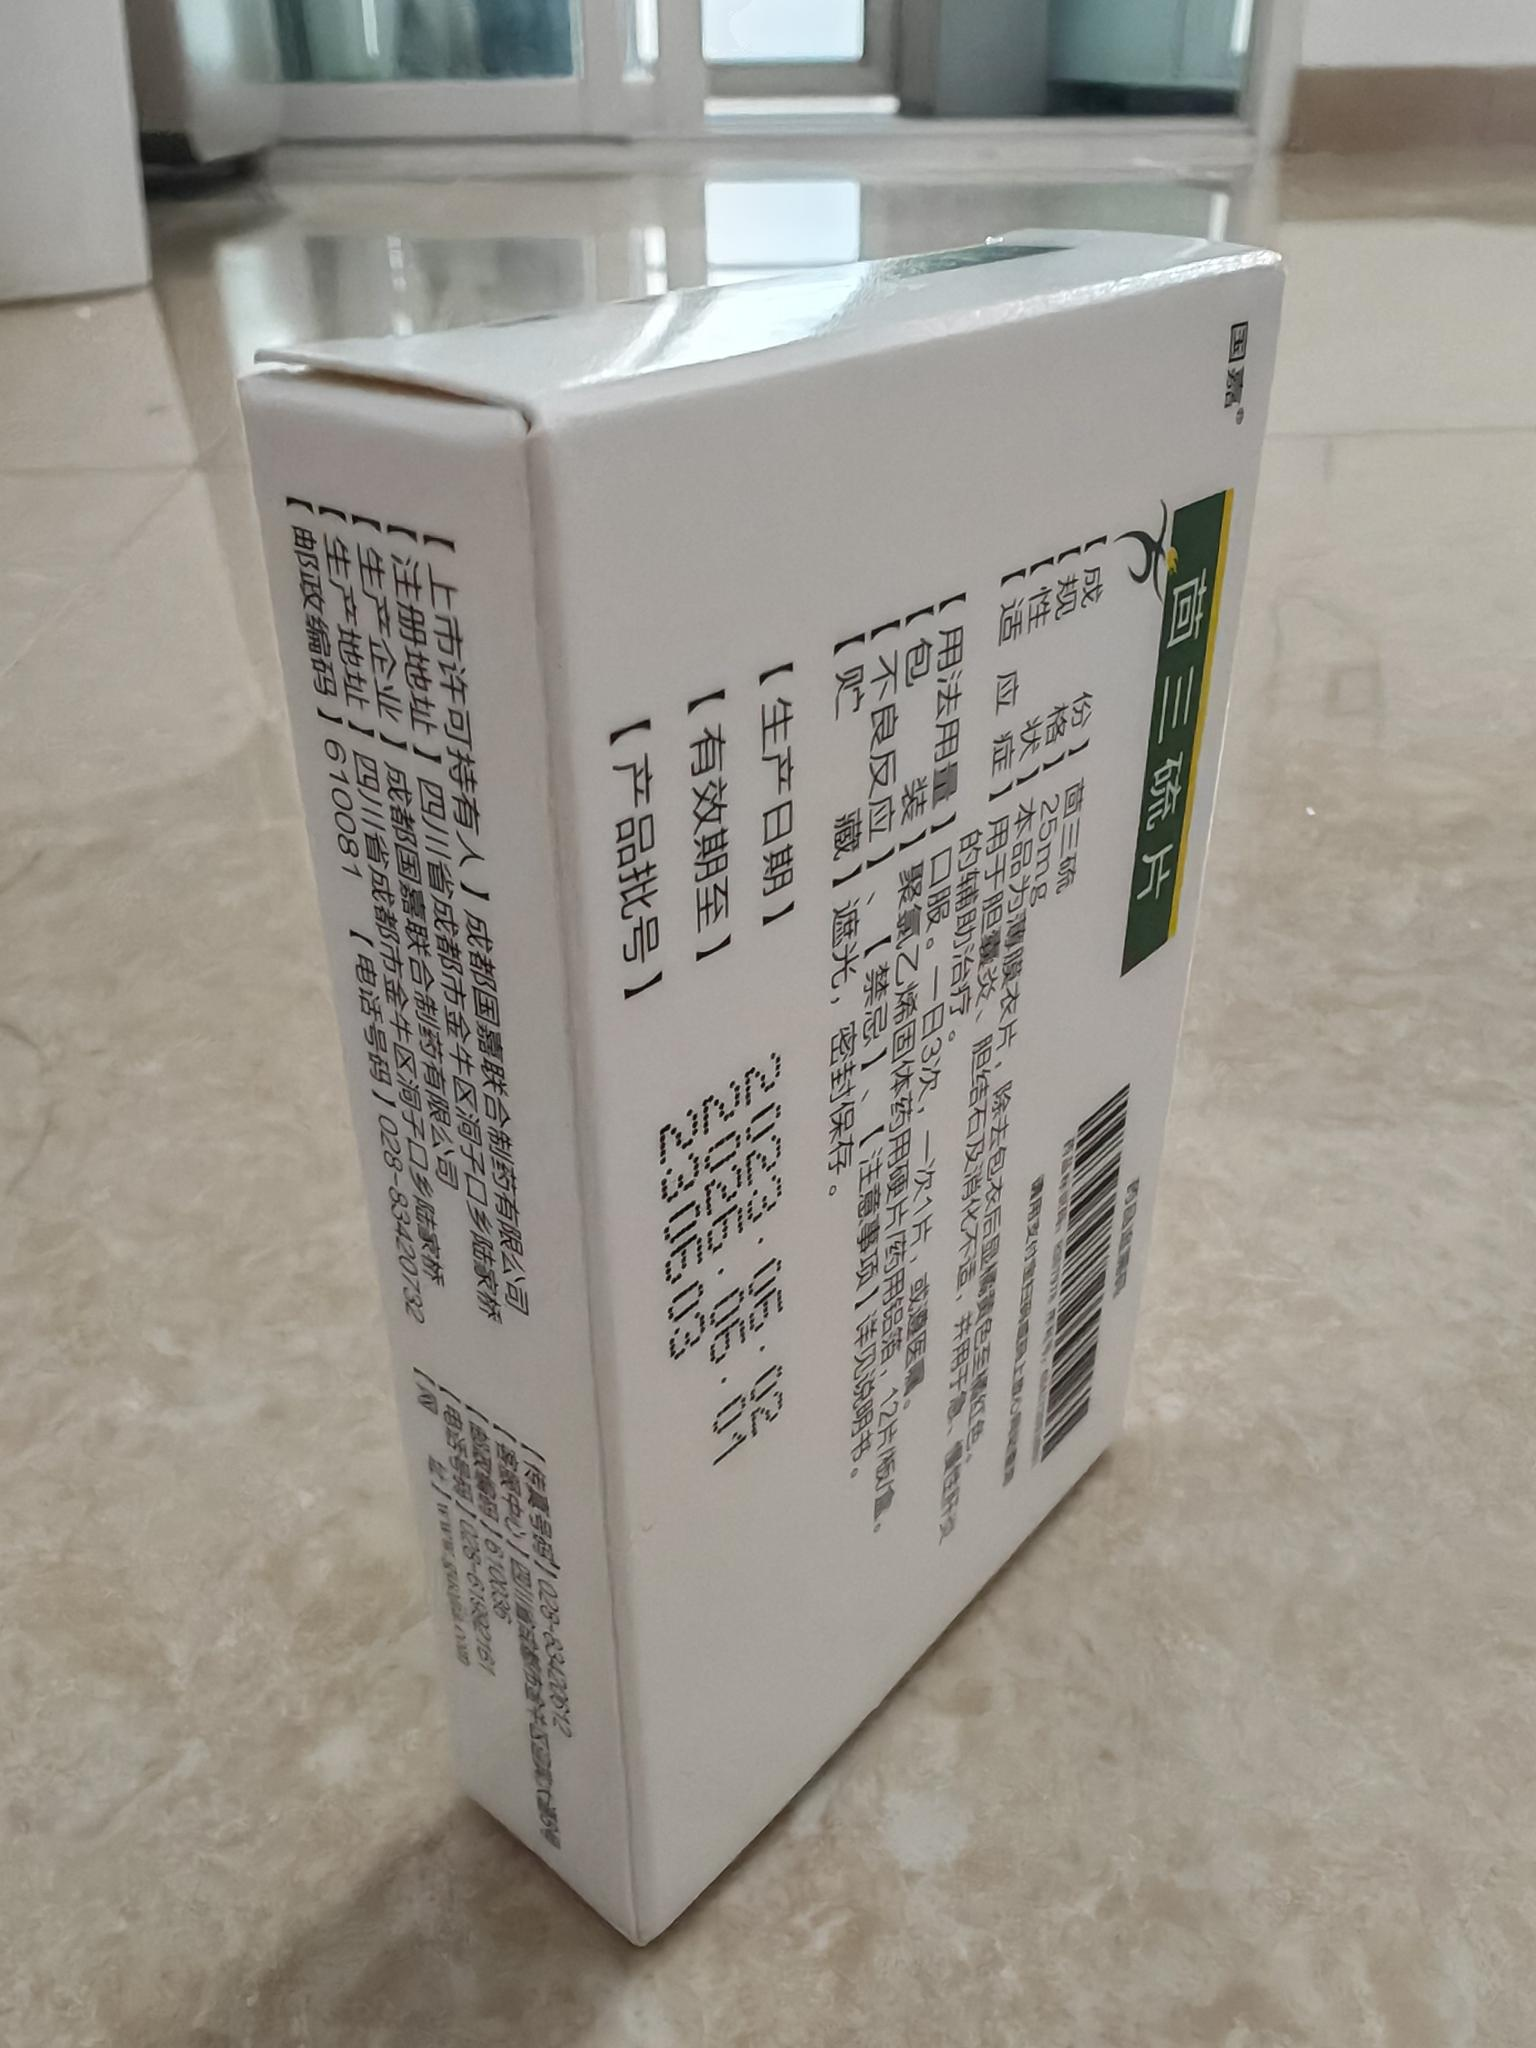Medicine4: (215, 205, 1325, 1975)
